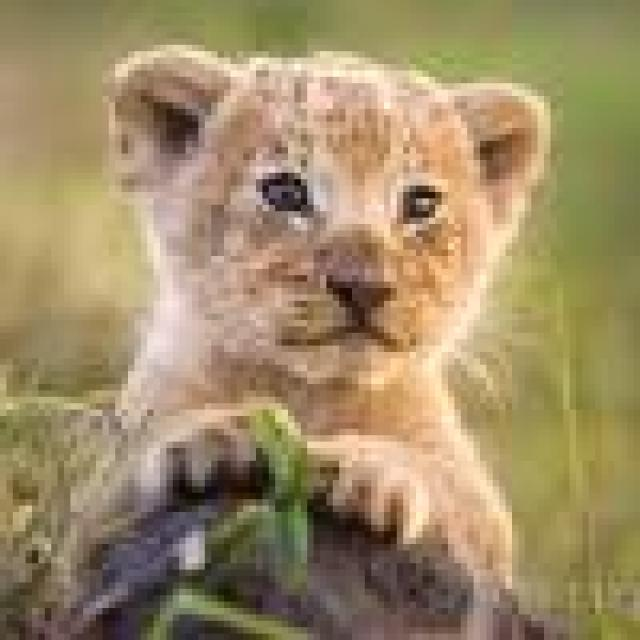Lion: (109, 45, 544, 576)
